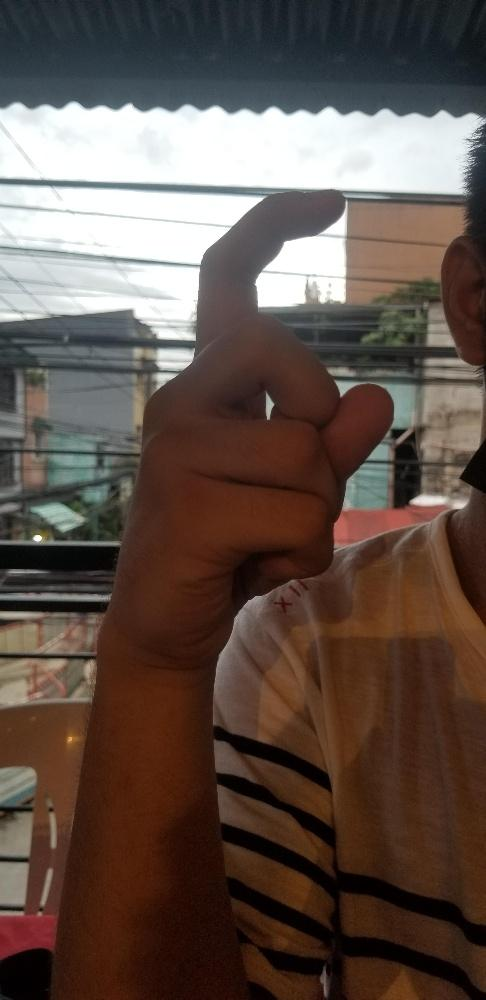x: (108, 186, 394, 651)
